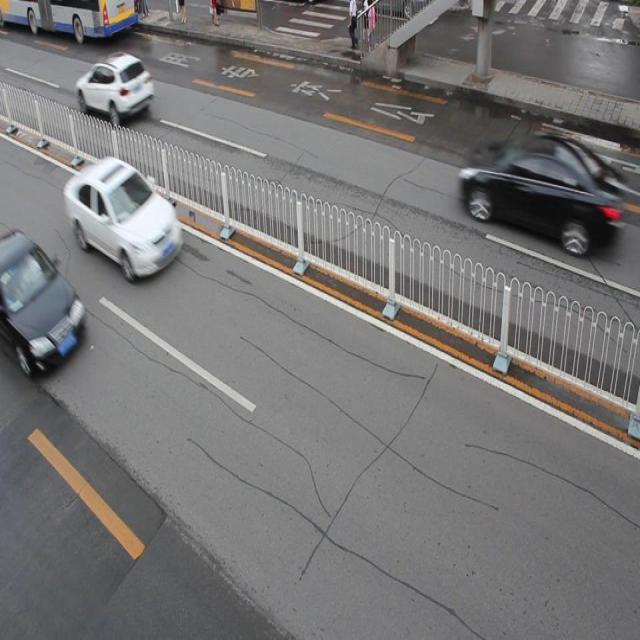car: (459, 132, 615, 253), (64, 156, 182, 278), (1, 228, 85, 374), (76, 52, 154, 125)
